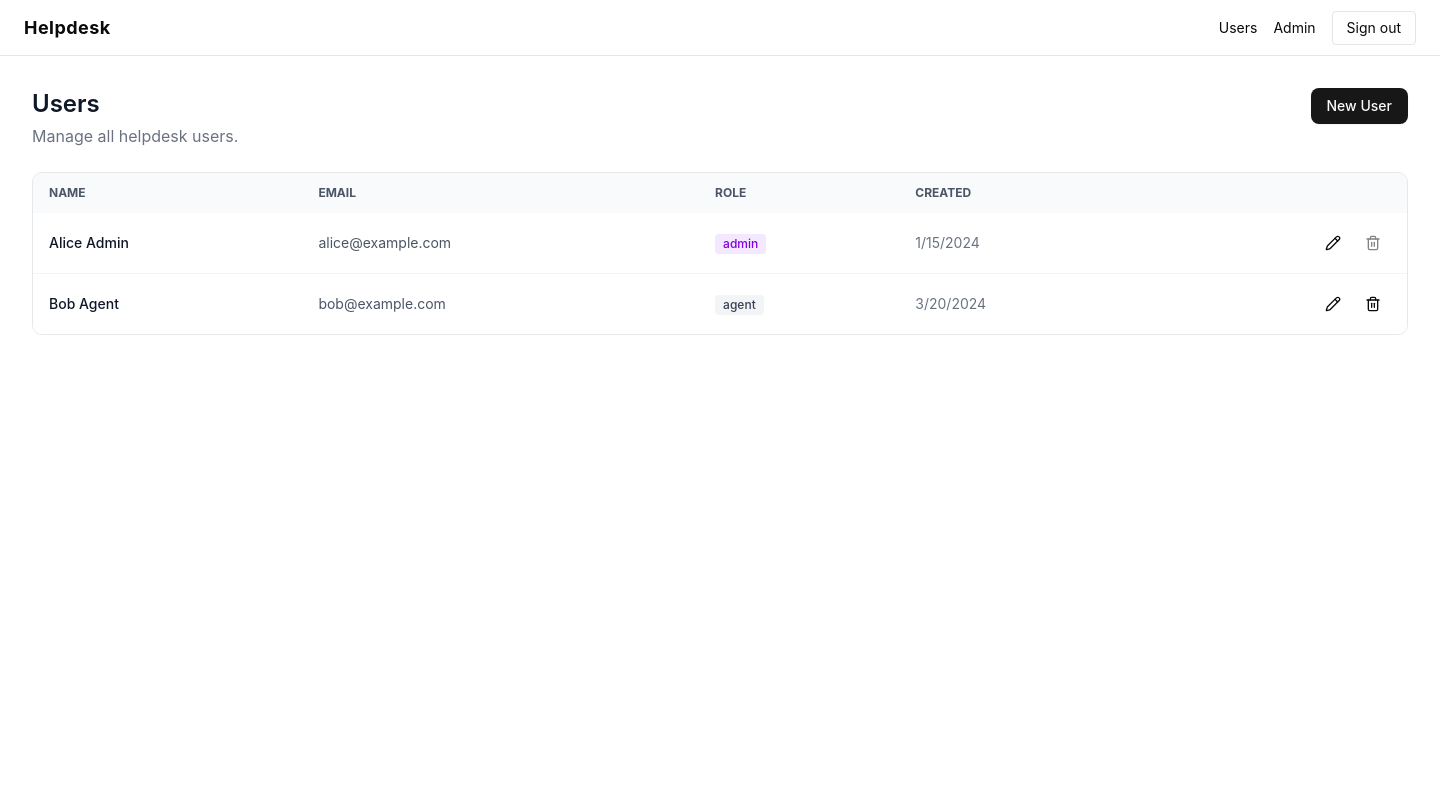
UsersPage › hides the dialog when Escape is pressed
The width and height of the screenshot is (1440, 810).
Click the button "New User": (1359, 106) [1310, 88, 1408, 124]
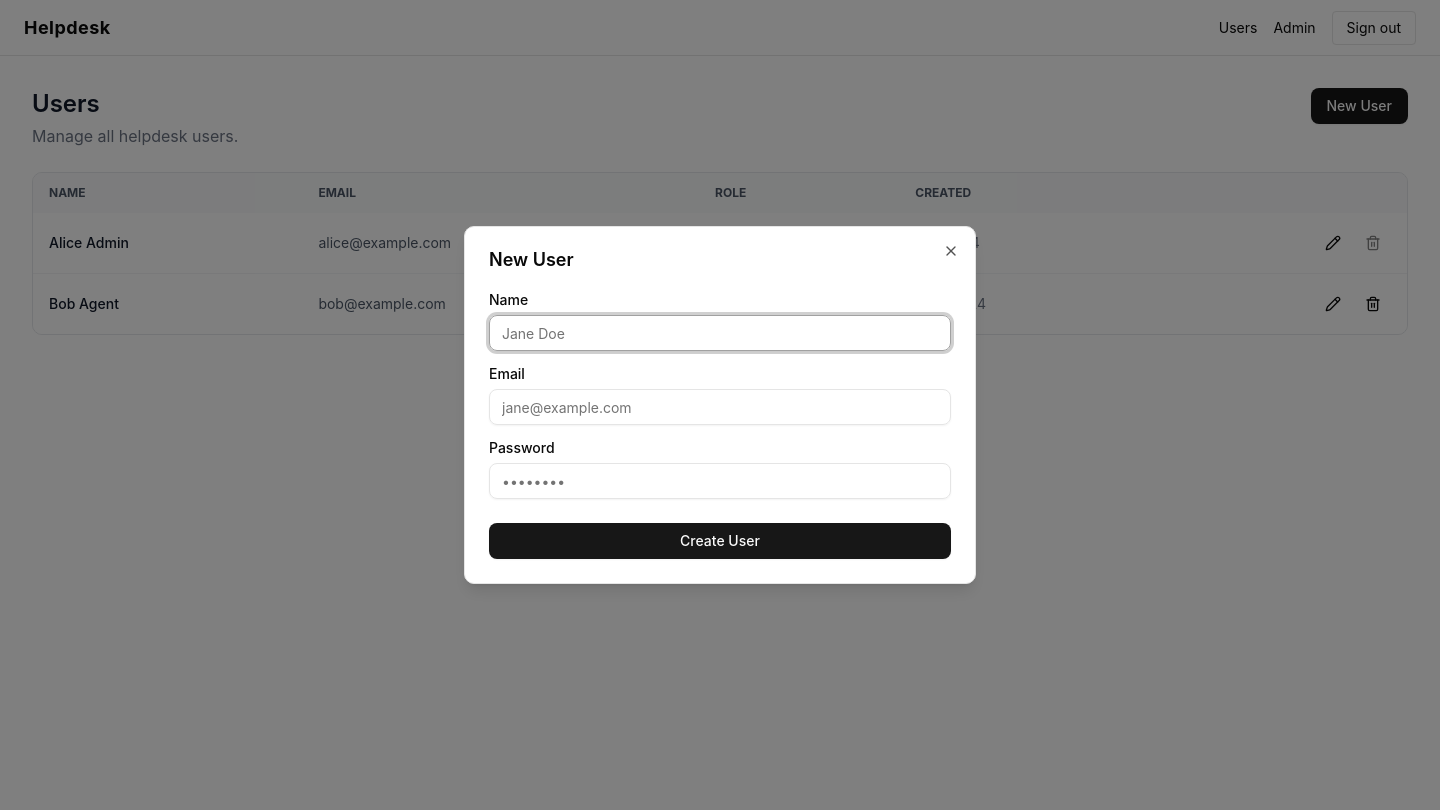
Check: the dialog is shown, box [464, 226, 976, 584]
Press Escape
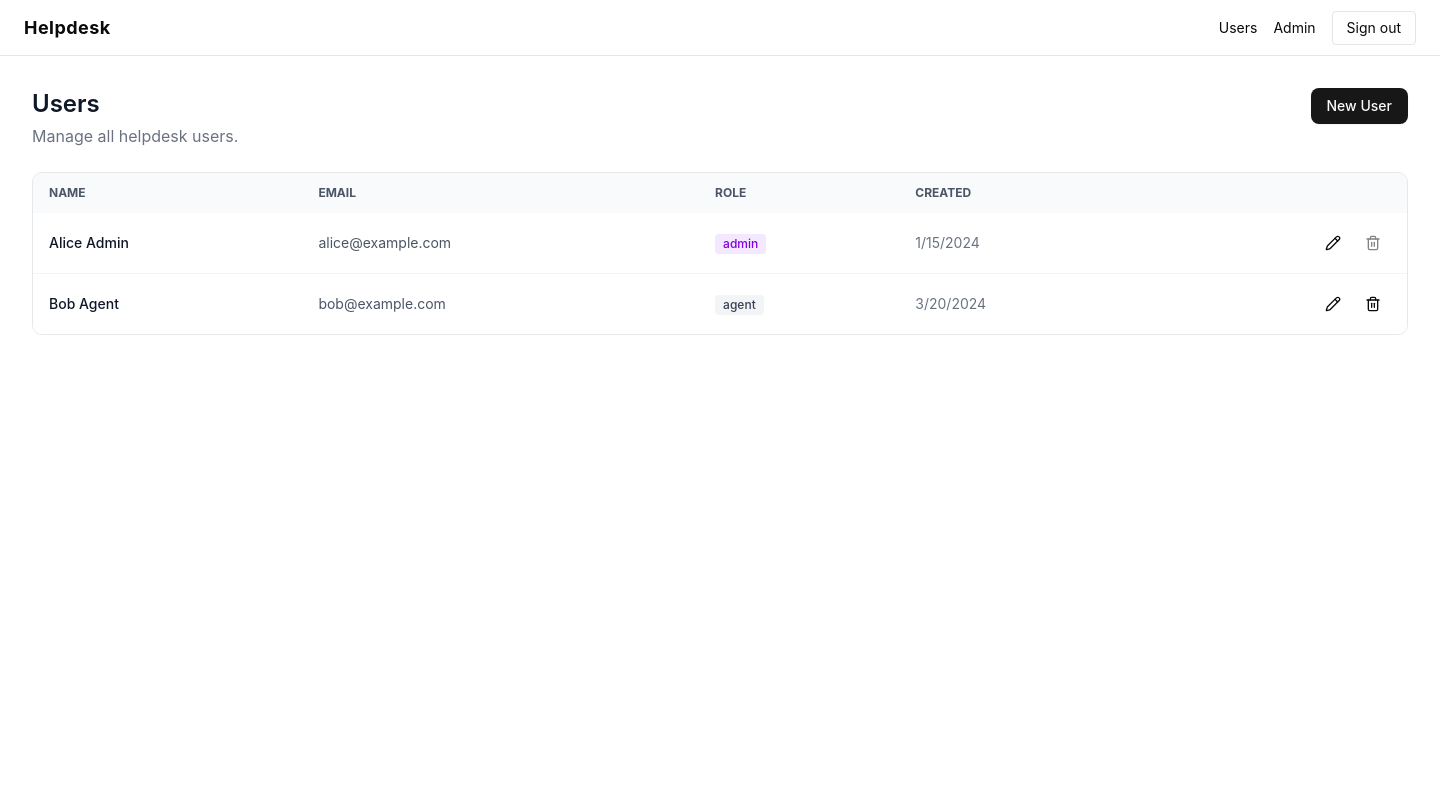
Check: the dialog is gone
